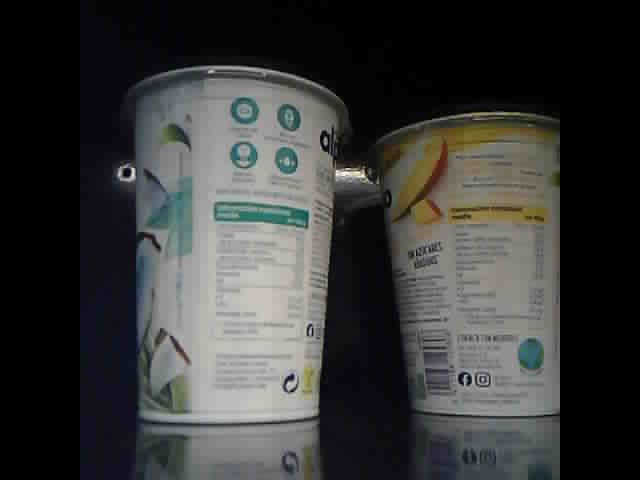alpro: (121, 60, 353, 425), (371, 100, 561, 420)
